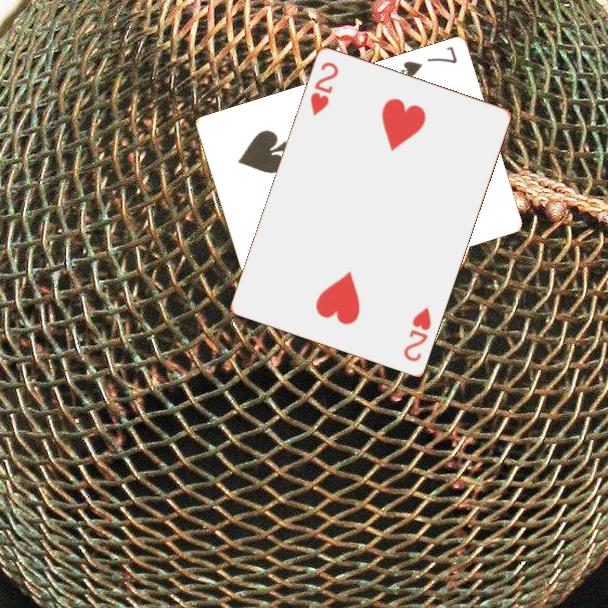h02: (306, 58, 341, 119), (400, 303, 434, 364)
s07: (397, 43, 460, 80)
